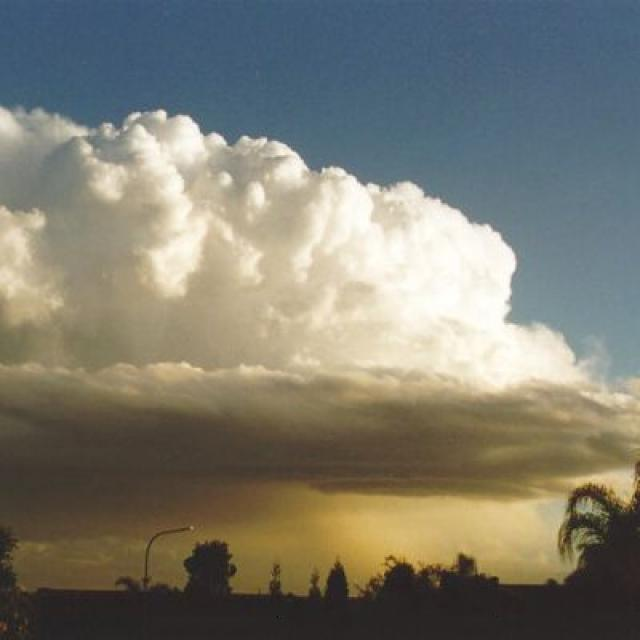Cb: (1, 90, 549, 481)
